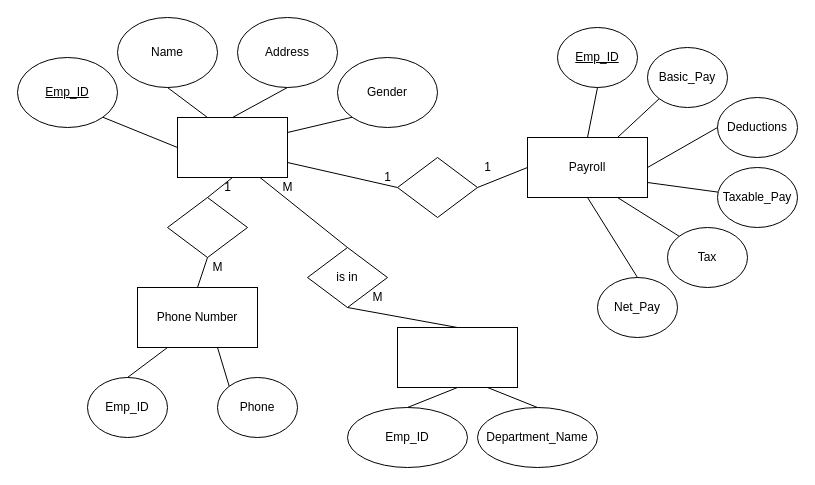
Image size: 815x485. Some labels were removed from this diagram. The shapes that lost their labels are listed below. From the top down, each one's centre as x and y in pixels, then its label:
point (232, 147): Employee
point (437, 187): has a
point (207, 227): has
point (457, 357): Department
